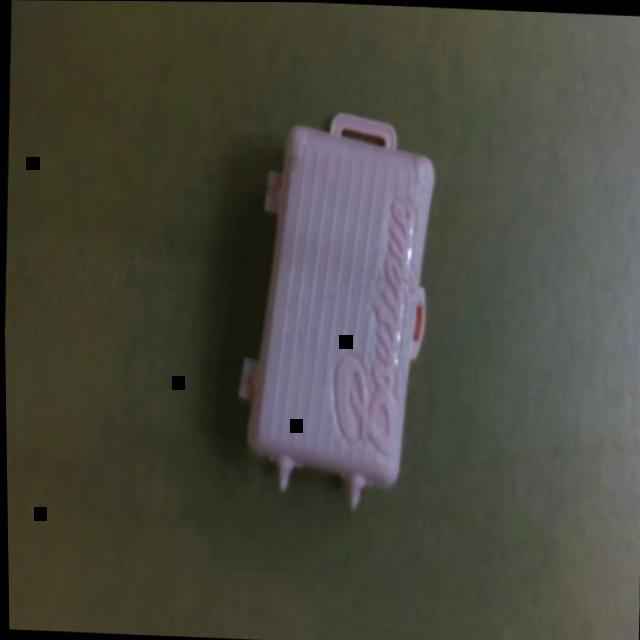luggage: (219, 93, 451, 524)
